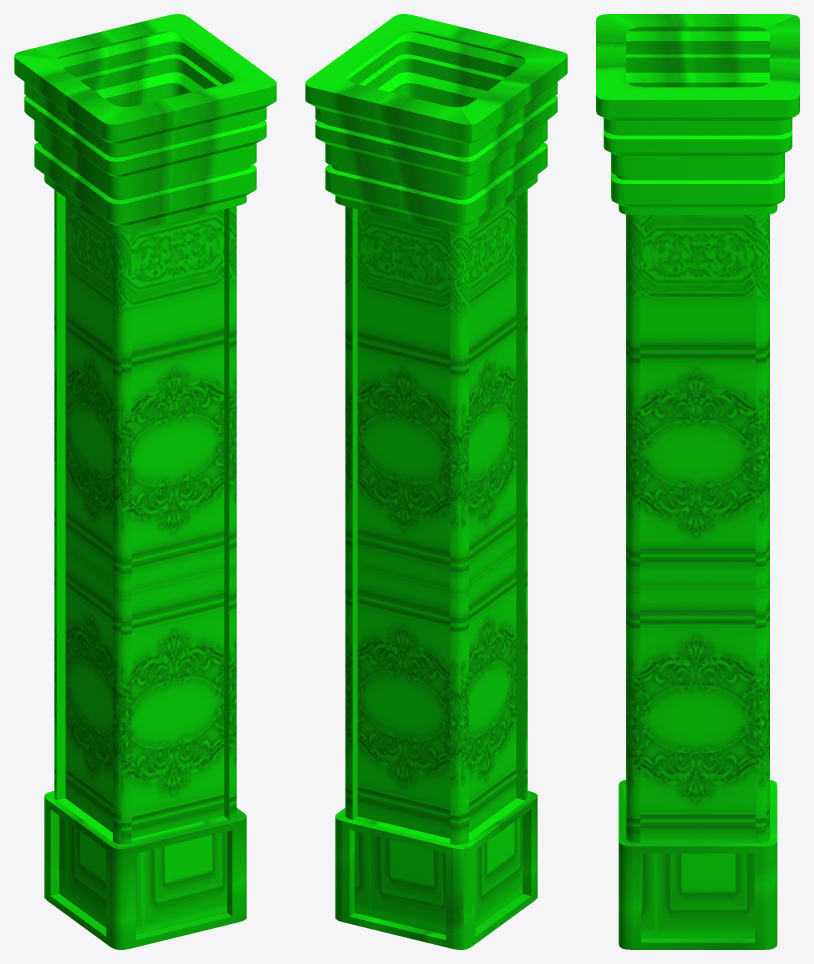
3 views of the same model, side by side, from view 1: azimuth 30°, elevation 25°; view 2: azimuth 150°, elevation 25°; view 3: azimuth 270°, elevation 25° (orthographic). The views are drawn at different scales.
Parts seen in each view (by area): view 1: Box056; view 2: Box056; view 3: Box056.
Boxes of the visible parts, x1,y1,x2,y2 form: Box056: [14, 14, 276, 949]; Box056: [305, 14, 567, 949]; Box056: [596, 14, 799, 949].
Size of the model in its own units: 42.55 by 198 by 42.55.
